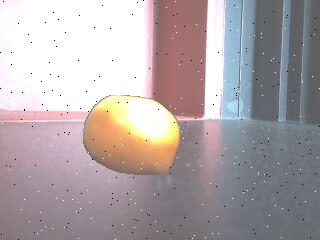Potato: (78, 92, 182, 177)
